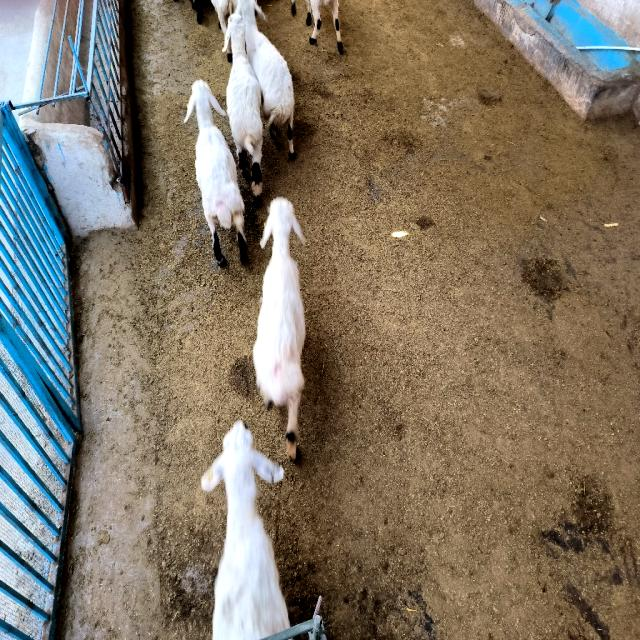sheep: (201, 420, 290, 638), (254, 198, 305, 458), (185, 80, 248, 267), (236, 0, 295, 158), (224, 13, 262, 204), (306, 0, 342, 52), (291, 0, 296, 16)
